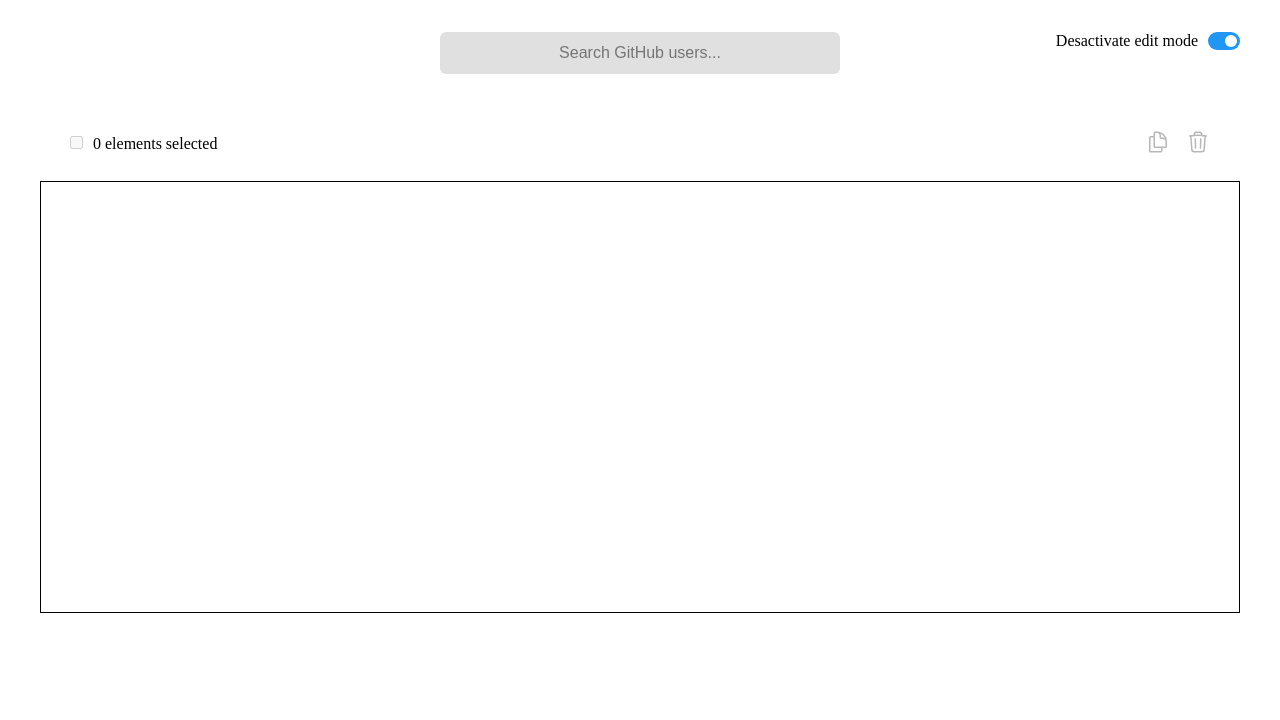
Test: Tests on HomePage › displays "No results found" when API returns an empty response
Type "testdsdsqdsqdsqd" into the field with placeholder "Search GitHub users..." at (640, 53), box top-left (440, 32), bottom-right (840, 74)
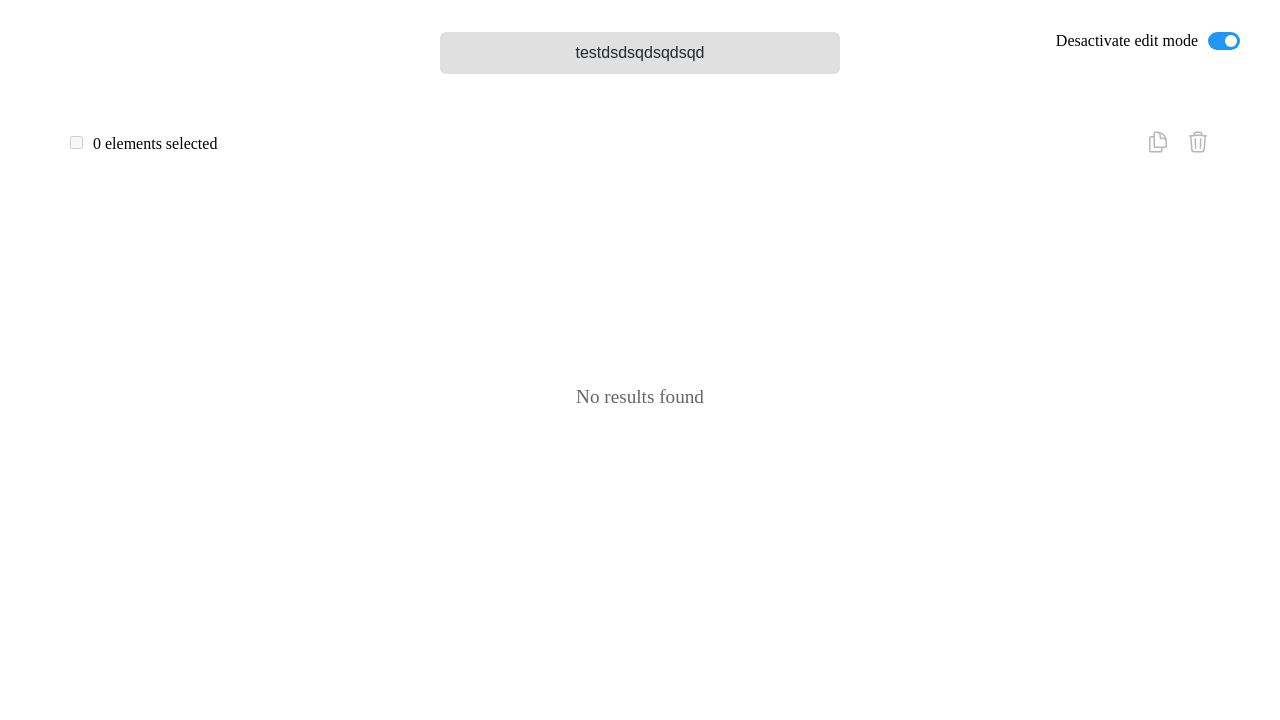
Now the text "No results found" is shown, box top-left (576, 386), bottom-right (704, 407)
